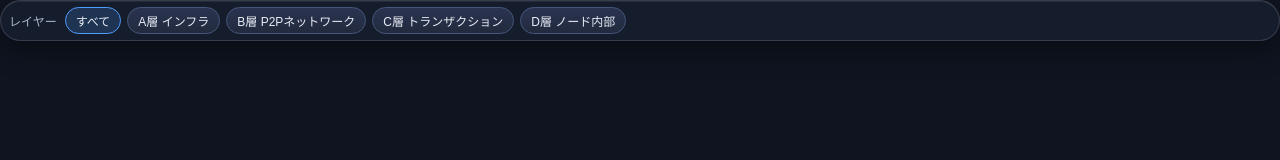
Test: LayerFilterBar › pre-click hint tooltips (same convention as CanvasToolbar, Issue #123 §4-1) › shows the 'all' hint on hover
The image size is (1280, 160).
Hover over the element showing "すべて": (93, 20) x1=65 y1=7 x2=121 y2=34
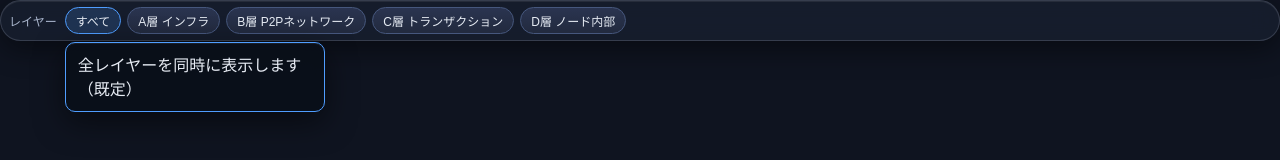
Now the tooltip reads "全レイヤーを同時に表示します（既定）", box x1=78 y1=55 x2=301 y2=99
